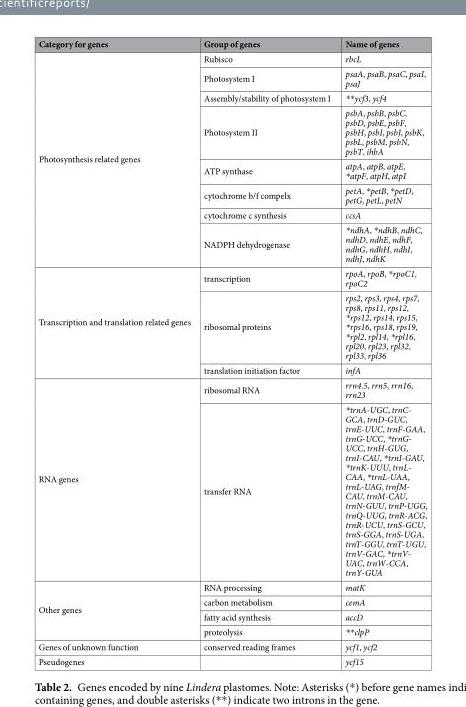table: (37, 37, 426, 667)
table column: (37, 37, 196, 667), (196, 37, 337, 667), (337, 37, 426, 667)
table column header: (37, 37, 426, 50)
table row: (37, 401, 426, 579), (37, 290, 426, 362), (37, 105, 426, 158), (37, 221, 426, 265), (37, 182, 426, 207), (37, 265, 426, 290), (37, 65, 426, 89), (37, 158, 426, 182), (37, 377, 426, 401), (37, 89, 426, 105), (37, 623, 426, 639), (37, 50, 426, 65), (37, 362, 426, 377), (37, 579, 426, 594), (37, 594, 426, 609), (37, 207, 426, 221), (37, 609, 426, 623), (37, 639, 426, 653), (37, 653, 426, 667), (37, 37, 426, 50)
table spanning cell: (37, 50, 196, 265), (37, 377, 196, 579), (37, 265, 196, 377), (37, 579, 196, 639)
